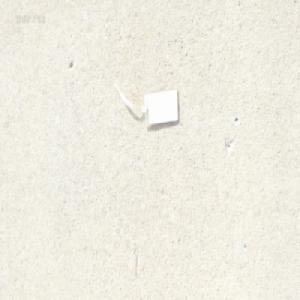LuggageTag: (112, 70, 182, 128)
